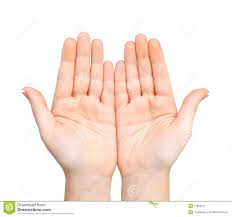palm: (53, 96, 113, 164), (121, 102, 177, 164)
